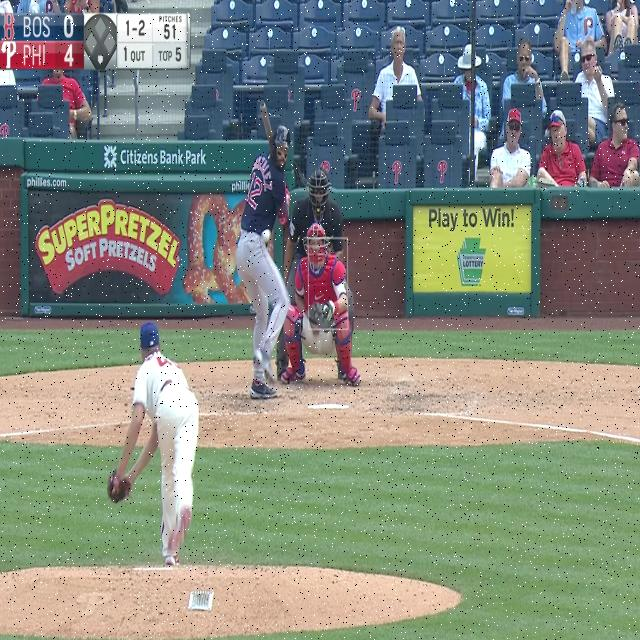baseball: (262, 230, 271, 242)
